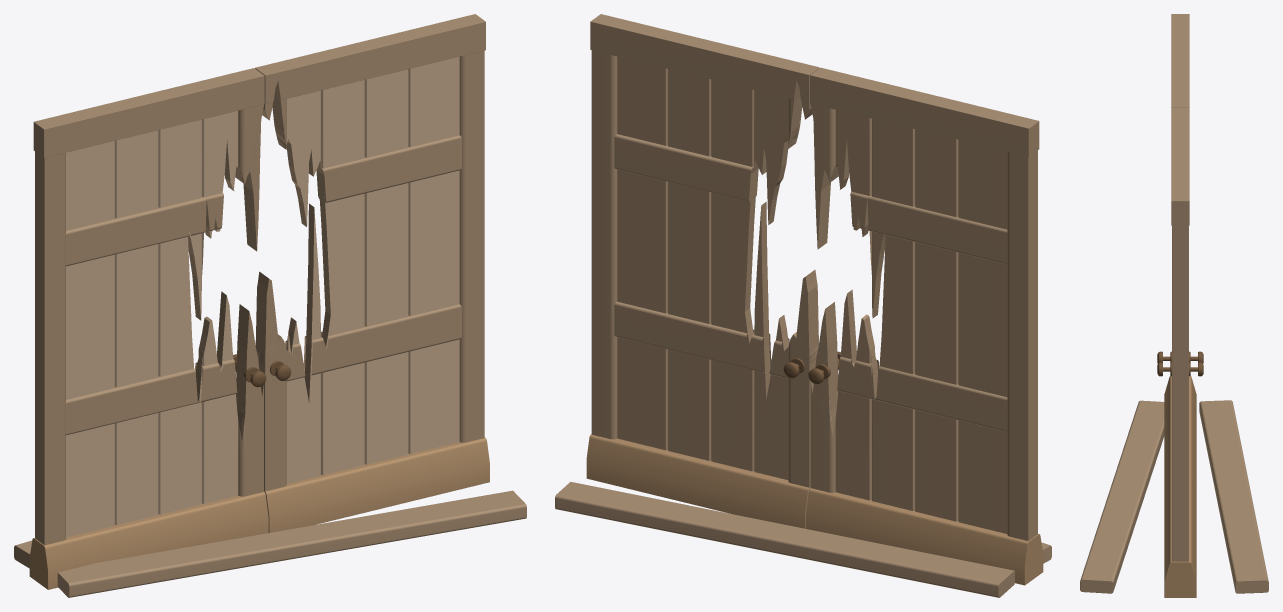
Rendered from SM_Door_Double_Breakable_01_State-2.fbx.
3 views of the same model, side by side, from view 1: azimuth 30°, elevation 25°; view 2: azimuth 150°, elevation 25°; view 3: azimuth 270°, elevation 25° (orthographic). The views are drawn at different scales.
Visible parts, largest first — view 1: SM_Door_R.007, SM_Door_R.015, Cylinder.004; view 2: SM_Door_R.007, SM_Door_R.015, Cylinder.004; view 3: SM_Door_R.015, SM_Door_R.007, Cylinder.004.
Part boxes in pixels (x1=…): SM_Door_R.007: x1=29, y1=14, x2=489, y2=589; SM_Door_R.015: x1=14, y1=490, x2=526, y2=597; Cylinder.004: x1=233, y1=354, x2=291, y2=387; SM_Door_R.007: x1=586, y1=14, x2=1043, y2=585; SM_Door_R.015: x1=555, y1=482, x2=1051, y2=597; Cylinder.004: x1=783, y1=351, x2=840, y2=384; SM_Door_R.015: x1=1080, y1=400, x2=1268, y2=593; SM_Door_R.007: x1=1164, y1=14, x2=1196, y2=597; Cylinder.004: x1=1157, y1=351, x2=1203, y2=376.
Bounding box in the file's own units: 301 × 298 × 128.
